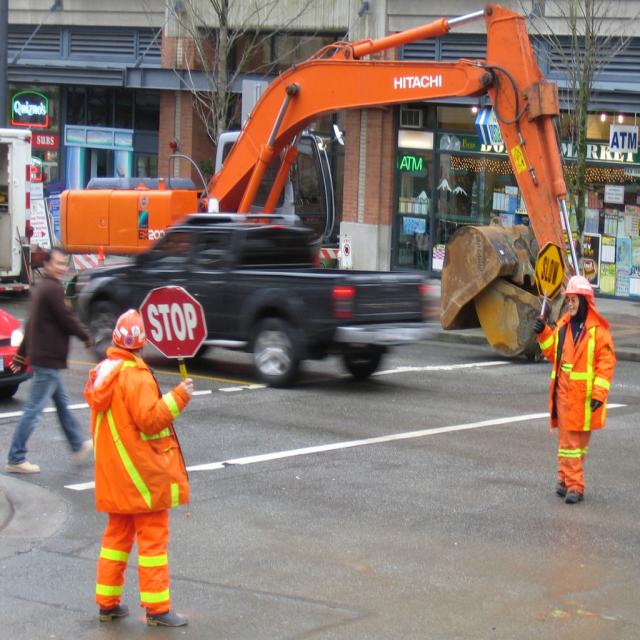Stop-sign: (139, 284, 209, 359)
